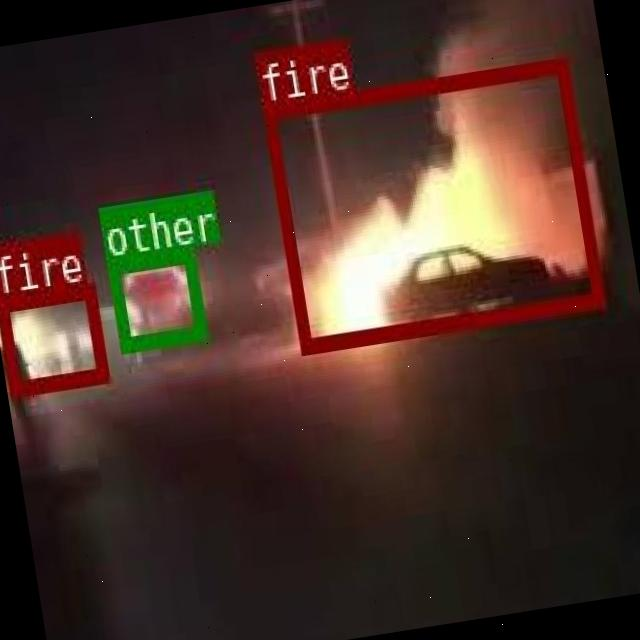fire: (262, 56, 604, 350), (0, 280, 105, 392)
